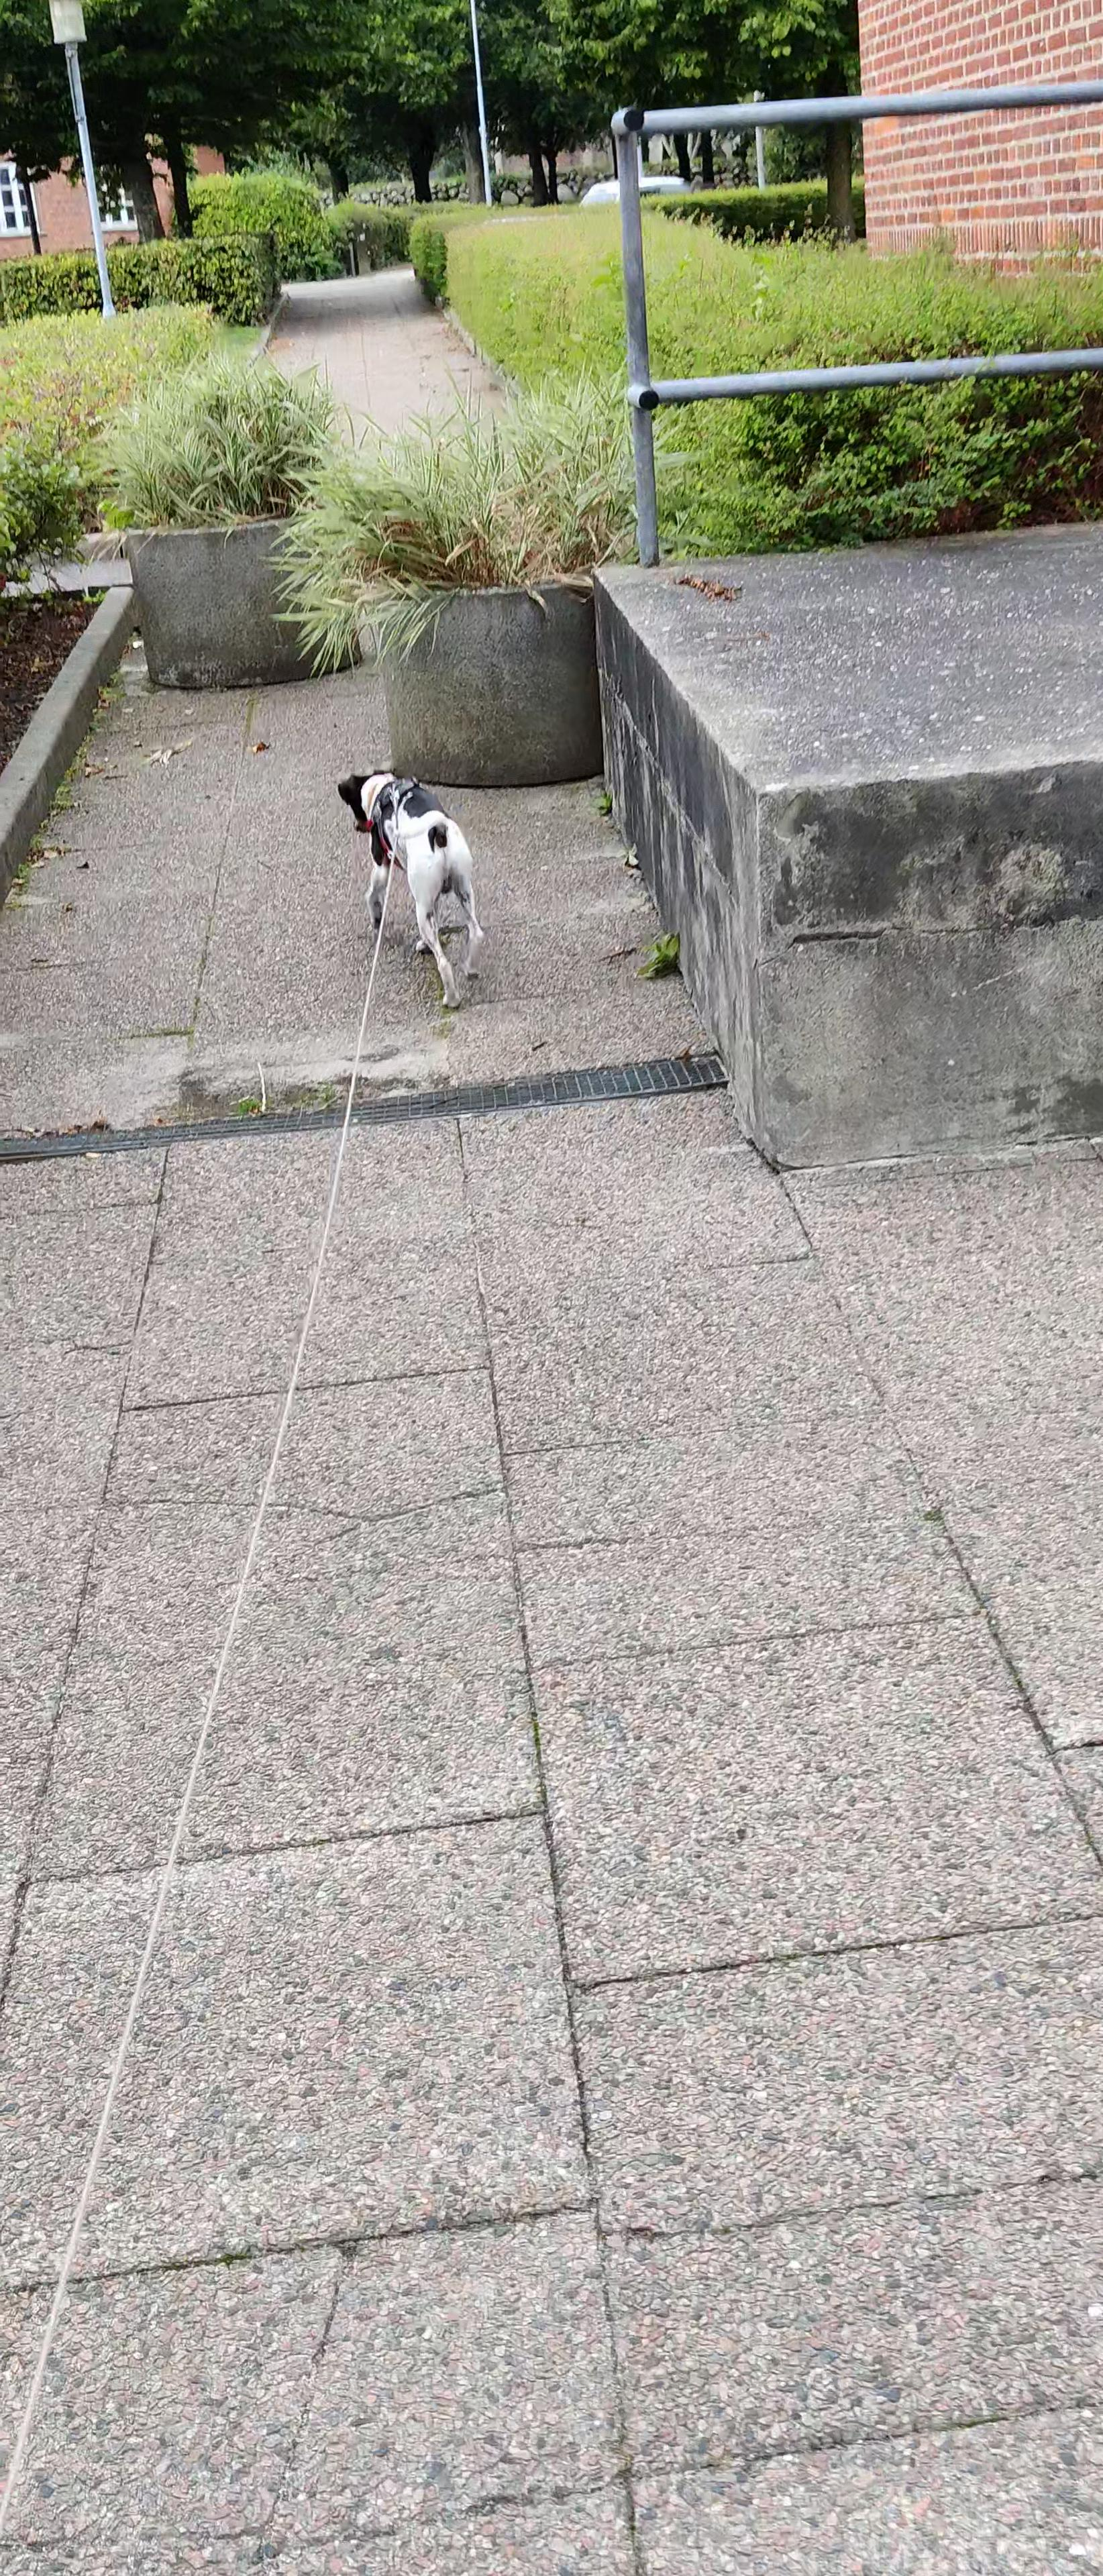Dog: (335, 766, 488, 1012)
